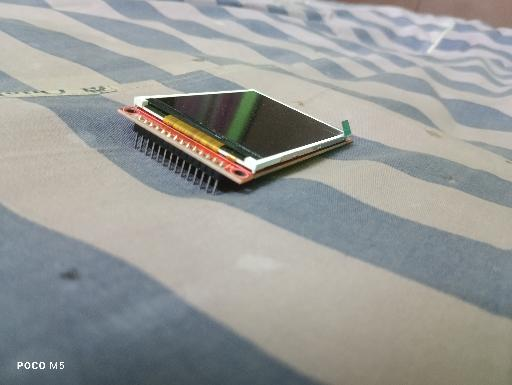Display: (116, 87, 354, 199)
